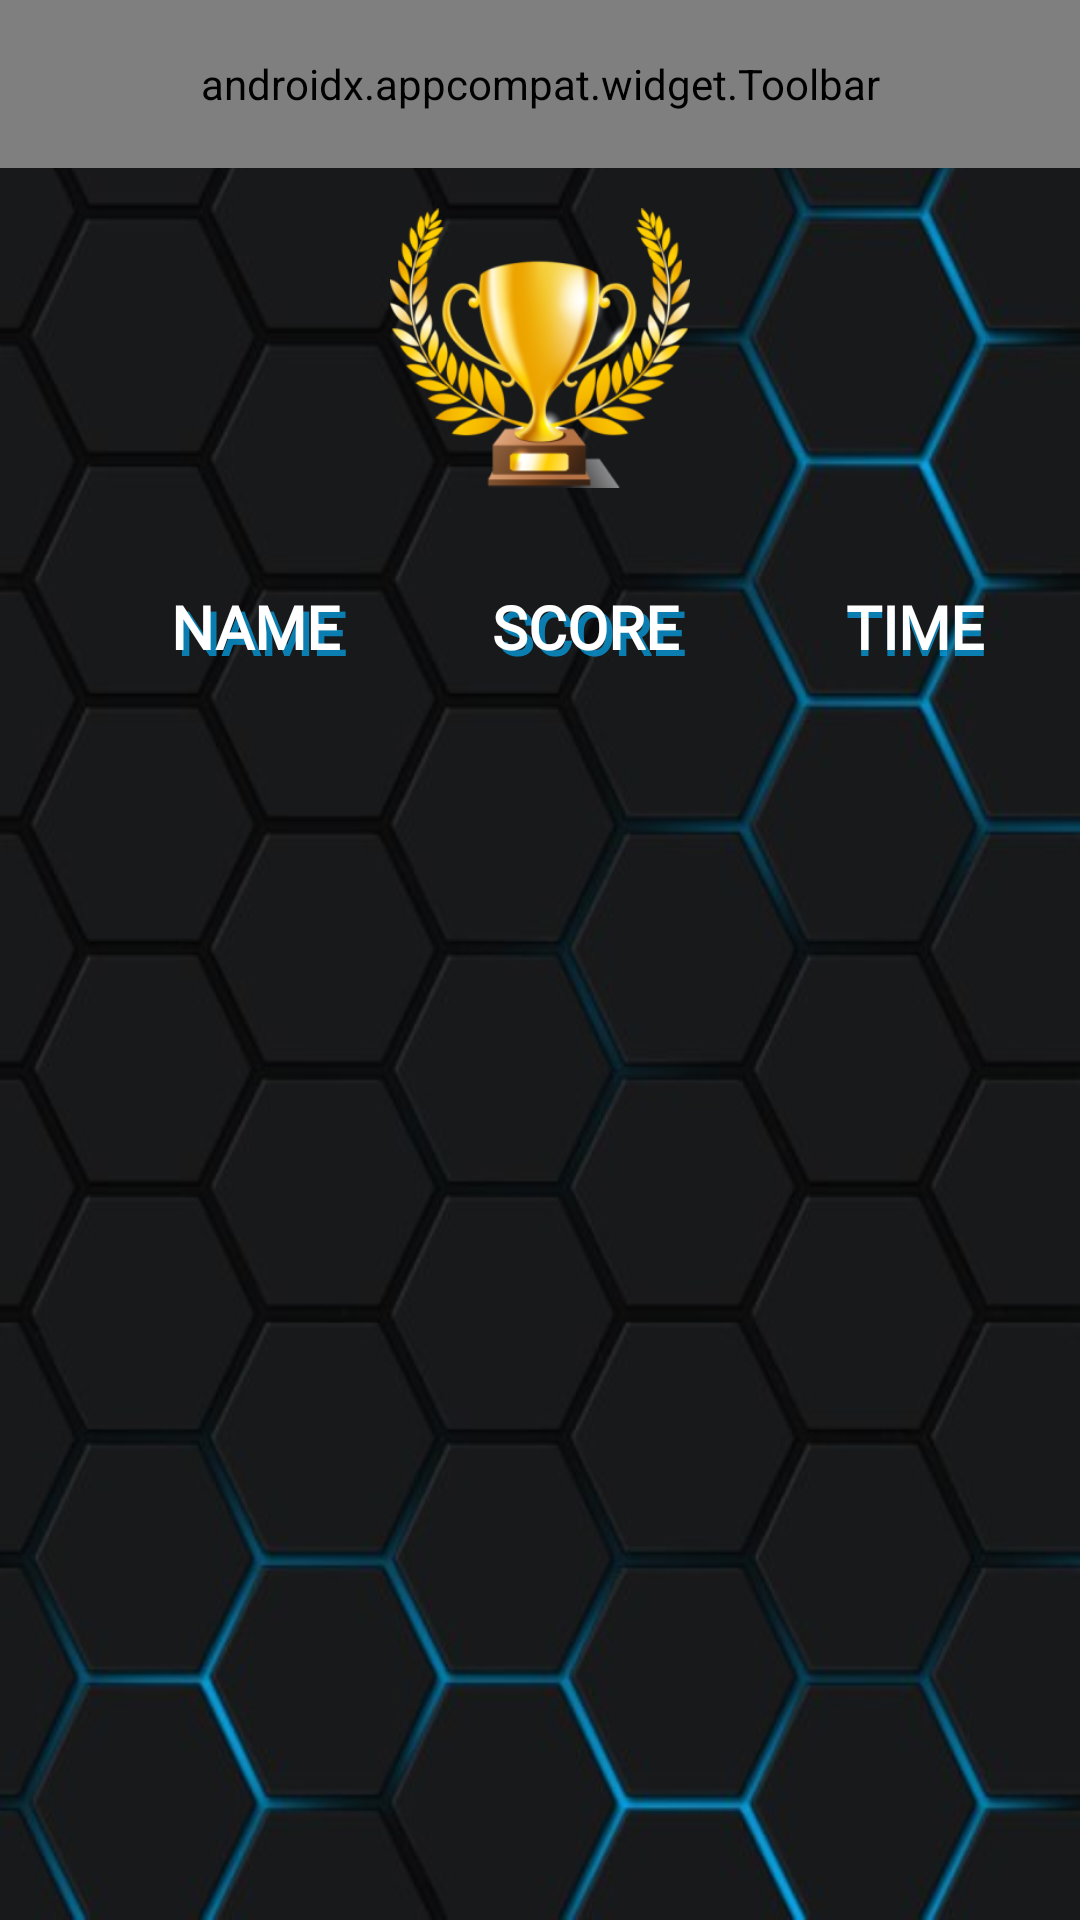

Where to tap for icons on this 1080px x 1920px app screen, as (x,y):
trofee: (540,348)
